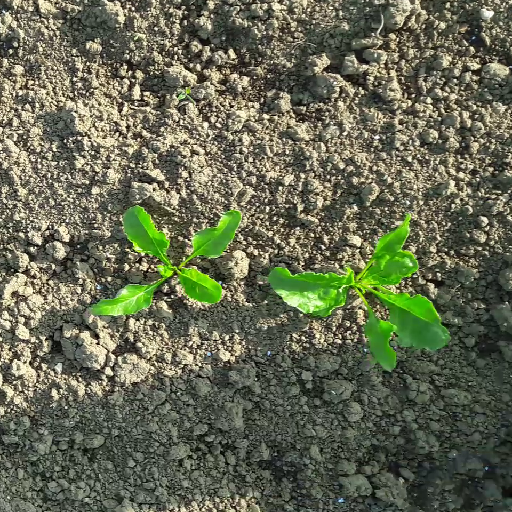sugarbeet: (272, 213, 453, 372), (89, 206, 243, 317)
weed: (178, 85, 192, 100)
